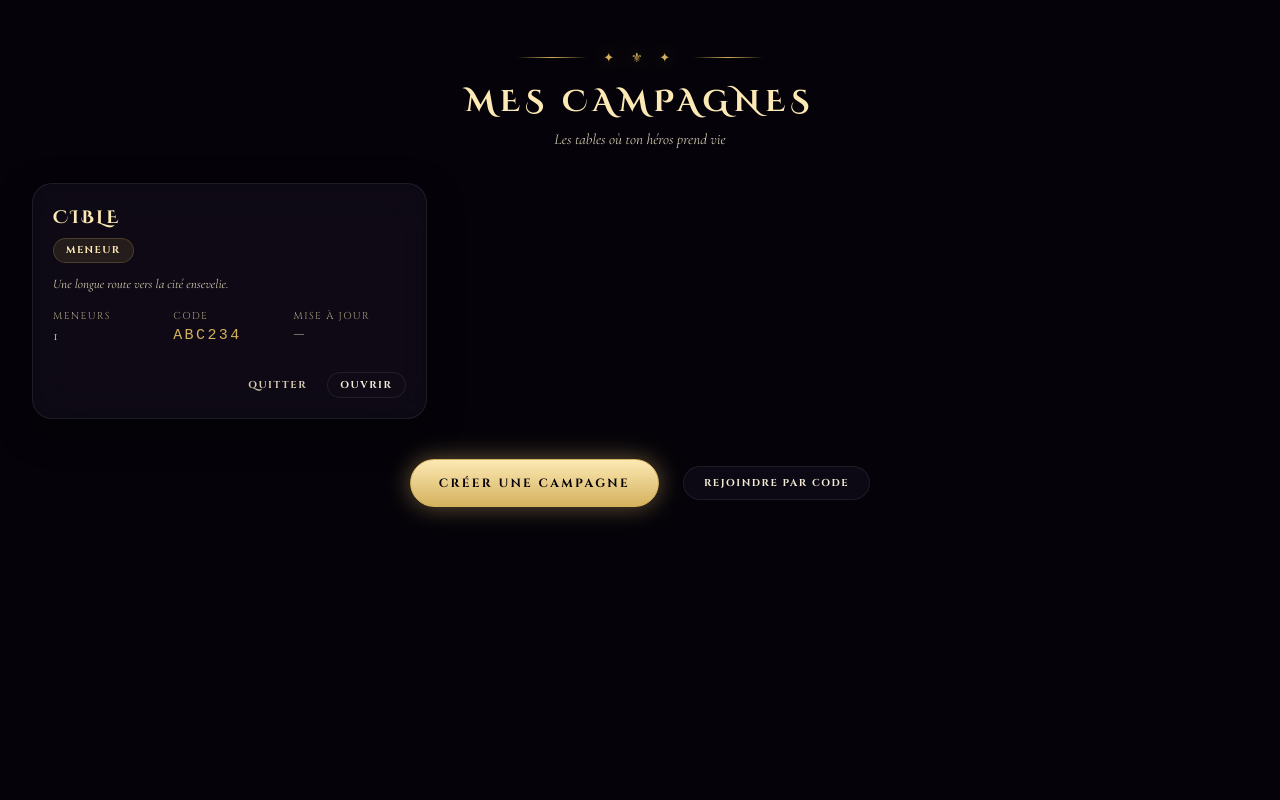
Scenario: <LeaveCampaignModal> via screen › erreur last-gm-cannot-leave → message dédié
Click the button "Quitter": (278, 384) 236,372 -> 319,398
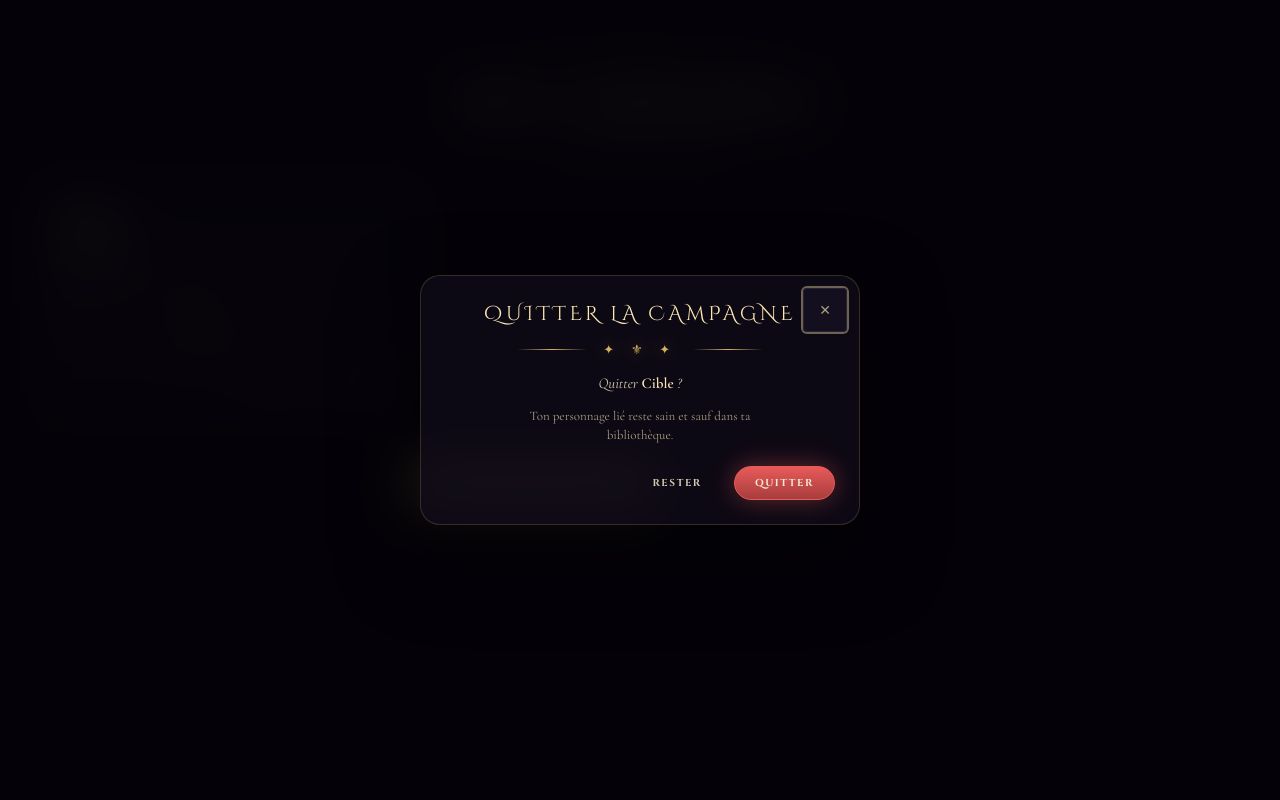
Click the button "Quitter": (784, 483) 734,466 -> 835,500
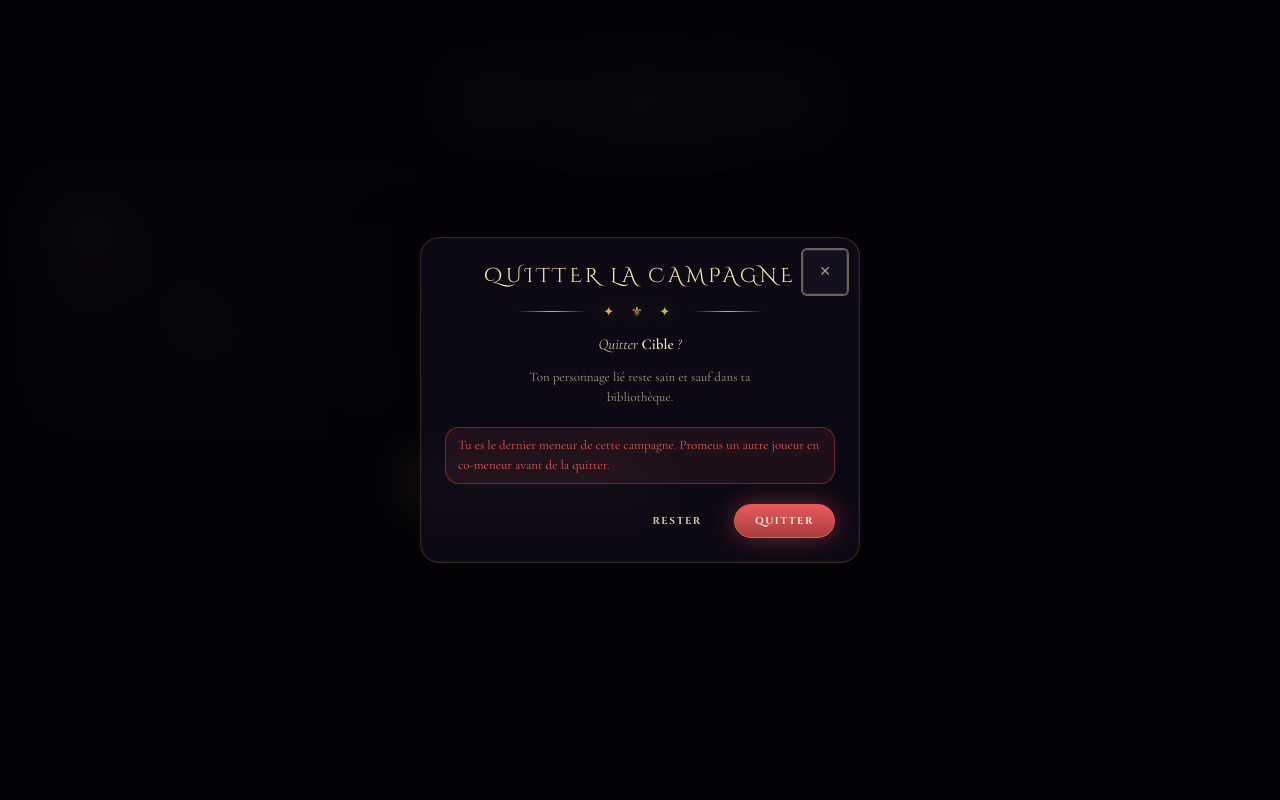
Expected: the text "dernier meneur" is shown, 458,437 -> 819,473
